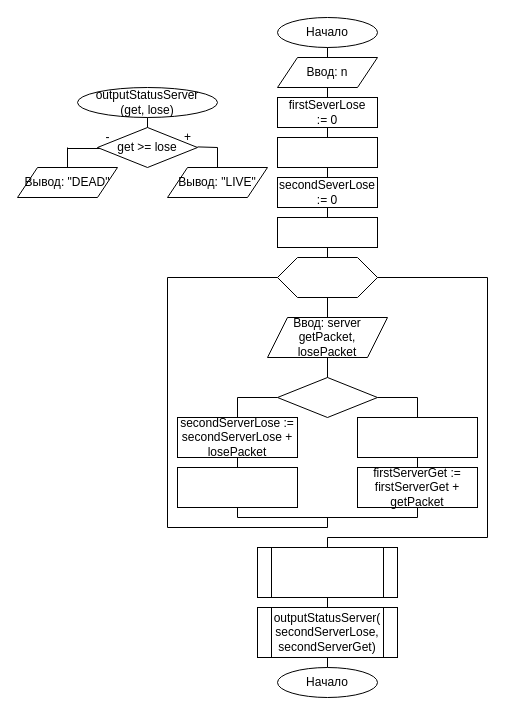
Some shapes in this 506 by 715 pixel diagram are drawn without their labels. Each missing label, with the centre of its shape:
firstServerLose := firstServerLose + losePacket: (417,437)
firstSeverGet := 0: (327,152)
i := 0, n - 1: (327,277)
outputStatusServer( firstServerLose, firstServerGet): (327,572)
secondServerGet := secondServerGet + getPacket: (237,487)
secondSeverGet := 0: (327,232)
server == 1: (327,397)
